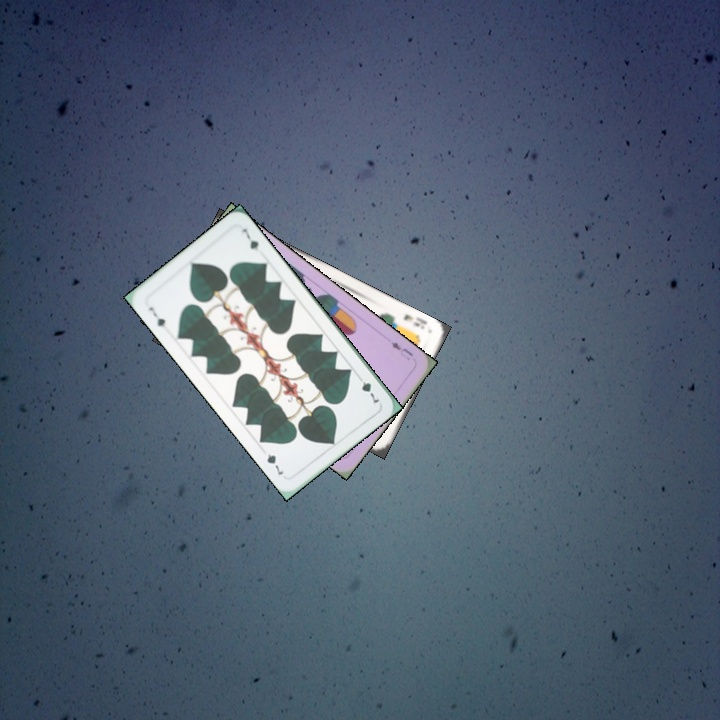EK: (399, 310, 430, 332)
EU: (387, 337, 416, 363)
G7: (353, 371, 382, 407), (144, 303, 168, 330)
